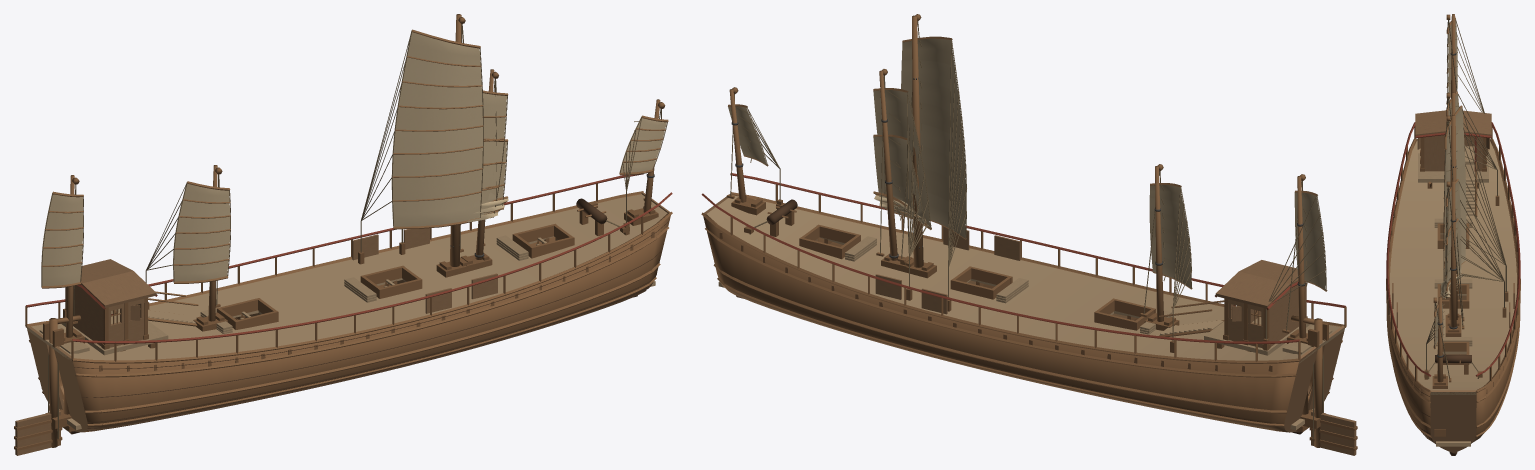
The model's file is zhanchuan-full.glb.
3 renders of one model, left to right at view 1: azimuth 30°, elevation 25°; view 2: azimuth 150°, elevation 25°; view 3: azimuth 270°, elevation 25°, orthographic. The views are drawn at different scales.
Visible parts, largest first — view 1: Starboard planked shell_WEB, Battened sail panels.002_WEB, Battened sail panels.001_WEB, Battened sail panels_WEB, Cambered upper shelter roof_WEB, Battened sail panels.003_WEB, Battened sail panels.006_WEB, Main deck plank.020_WEB, Main deck plank.018_WEB, Main deck plank.019_WEB, Main deck plank.017_WEB, Aft wall_WEB (+24 smaller); view 2: Port planked shell_WEB, Battened sail panels.002_WEB, Battened sail panels.001_WEB, Cambered upper shelter roof_WEB, Battened sail panels.003_WEB, Battened sail panels.004_WEB, Battened sail panels_WEB, Tapered mast.002_WEB, Main deck plank.020_WEB, Main deck plank.018_WEB, Main deck plank.019_WEB, Main deck plank.017_WEB (+24 smaller); view 3: Port planked shell_WEB, Starboard planked shell_WEB, Battened sail panels.002_WEB, Cambered upper shelter roof_WEB, Bow closure_WEB, Bow closure.002_WEB, Main deck plank.017_WEB, Main deck plank.018_WEB, Main deck plank.007_WEB, Main deck plank.019_WEB, Main deck plank.021_WEB, Tapered mast.003_WEB (+58 smaller).
Boxes of the visible parts, bbox=[...] form: Starboard planked shell_WEB: bbox=[73, 213, 670, 432]; Battened sail panels.002_WEB: bbox=[391, 30, 482, 226]; Battened sail panels.001_WEB: bbox=[173, 182, 230, 281]; Battened sail panels_WEB: bbox=[41, 193, 83, 285]; Cambered upper shelter roof_WEB: bbox=[80, 259, 156, 307]; Battened sail panels.003_WEB: bbox=[479, 93, 506, 215]; Battened sail panels.006_WEB: bbox=[619, 116, 666, 173]; Main deck plank.020_WEB: bbox=[296, 268, 390, 328]; Main deck plank.018_WEB: bbox=[259, 277, 352, 336]; Main deck plank.019_WEB: bbox=[278, 272, 371, 332]; Main deck plank.017_WEB: bbox=[240, 281, 333, 339]; Aft wall_WEB: bbox=[66, 285, 103, 346]; Port planked shell_WEB: bbox=[703, 214, 1298, 432]; Battened sail panels.002_WEB: bbox=[901, 38, 965, 238]; Battened sail panels.001_WEB: bbox=[1149, 185, 1190, 288]; Cambered upper shelter roof_WEB: bbox=[1215, 260, 1298, 308]; Battened sail panels.003_WEB: bbox=[873, 90, 930, 228]; Battened sail panels.004_WEB: bbox=[873, 136, 925, 225]; Battened sail panels_WEB: bbox=[1294, 192, 1325, 290]; Tapered mast.002_WEB: bbox=[912, 15, 923, 267]; Main deck plank.020_WEB: bbox=[982, 269, 1076, 328]; Main deck plank.018_WEB: bbox=[1020, 277, 1113, 336]; Main deck plank.019_WEB: bbox=[1001, 273, 1094, 332]; Main deck plank.017_WEB: bbox=[1039, 282, 1131, 340]; Port planked shell_WEB: bbox=[1472, 140, 1518, 442]; Starboard planked shell_WEB: bbox=[1388, 140, 1435, 443]; Battened sail panels.002_WEB: bbox=[1444, 107, 1466, 279]; Cambered upper shelter roof_WEB: bbox=[1415, 110, 1491, 135]; Bow closure_WEB: bbox=[1453, 390, 1476, 452]; Bow closure.002_WEB: bbox=[1430, 390, 1453, 452]; Main deck plank.017_WEB: bbox=[1391, 252, 1515, 260]; Main deck plank.018_WEB: bbox=[1390, 261, 1516, 268]; Main deck plank.007_WEB: bbox=[1396, 209, 1510, 218]; Main deck plank.019_WEB: bbox=[1390, 269, 1516, 276]; Main deck plank.021_WEB: bbox=[1390, 284, 1516, 295]; Tapered mast.003_WEB: bbox=[1450, 181, 1456, 327].
Size of the model in its own units: 31.7 by 15.66 by 6.95.
23 materials, 10 textured.
